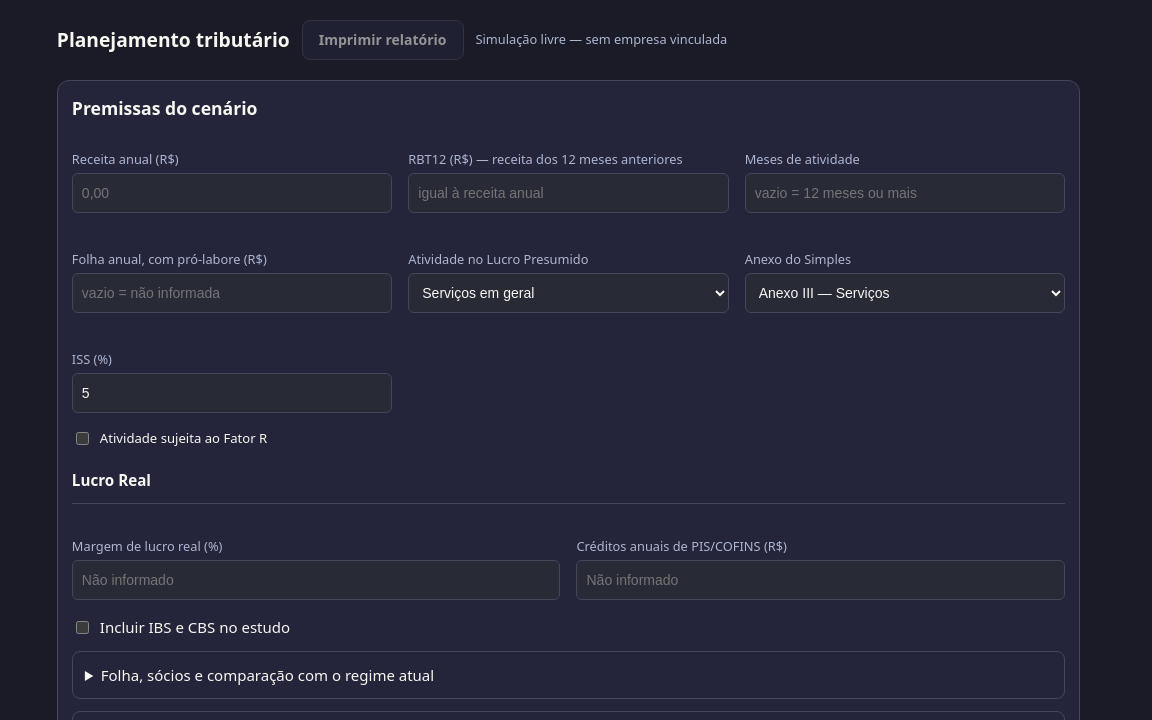
Test case: ⚠⚠ o campo de dinheiro na TELA — o ×100 não é mais escrevível › ⚠⚠ a FOLHA distingue vazio de zero, e a tela preserva a distinção
Step 1. Type "0" into the field labelled "Folha anual, com pró-labore (R$)" → (232, 293), box [72,273,392,313]
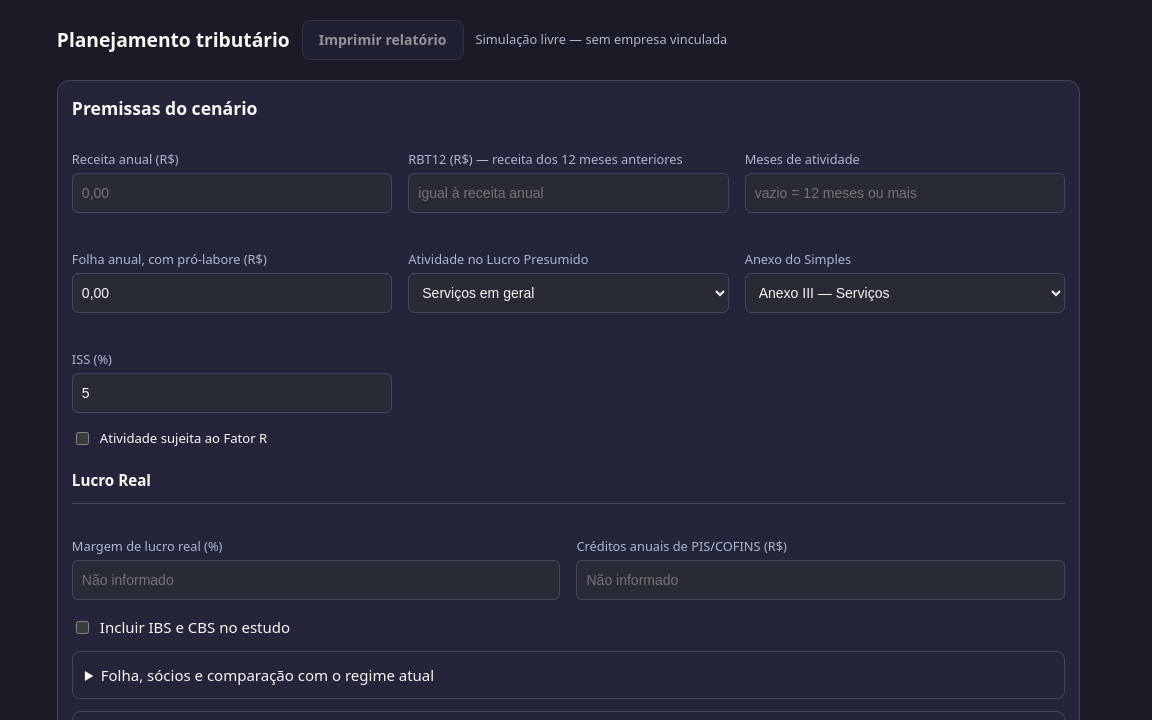
Check: the field labelled "Folha anual, com pró-labore (R$)" holds "0,00", box [72,273,392,313]
